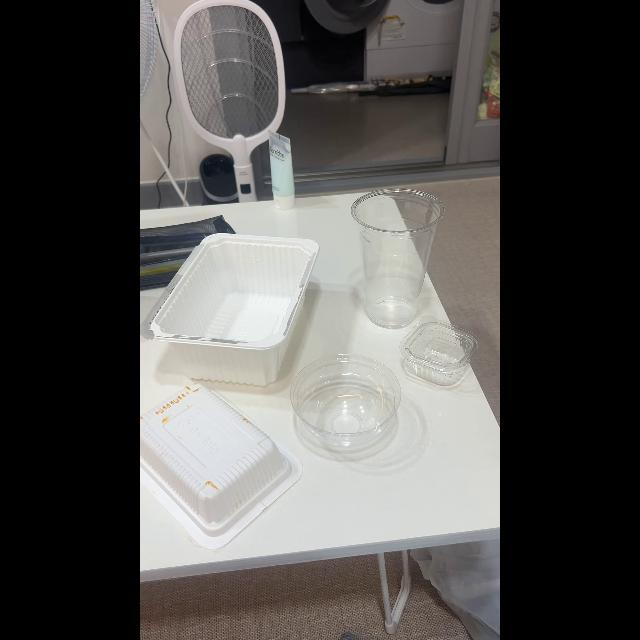clean: (150, 233, 314, 384), (351, 190, 444, 326), (290, 354, 402, 448), (404, 324, 476, 384)
dirty: (144, 382, 286, 542)
